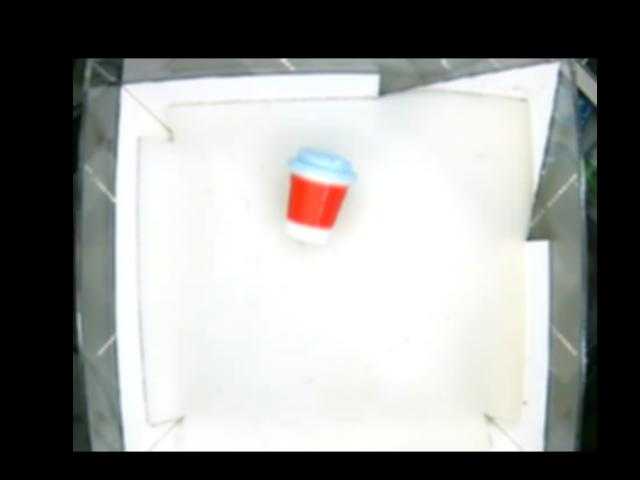Cup: (285, 150, 357, 245)
